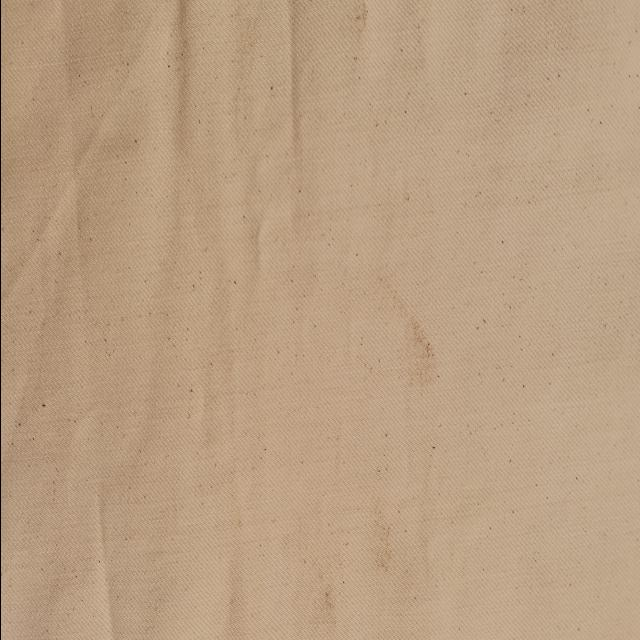taaaches: (374, 289, 436, 392), (369, 493, 398, 580), (314, 562, 340, 631), (348, 1, 373, 48)
